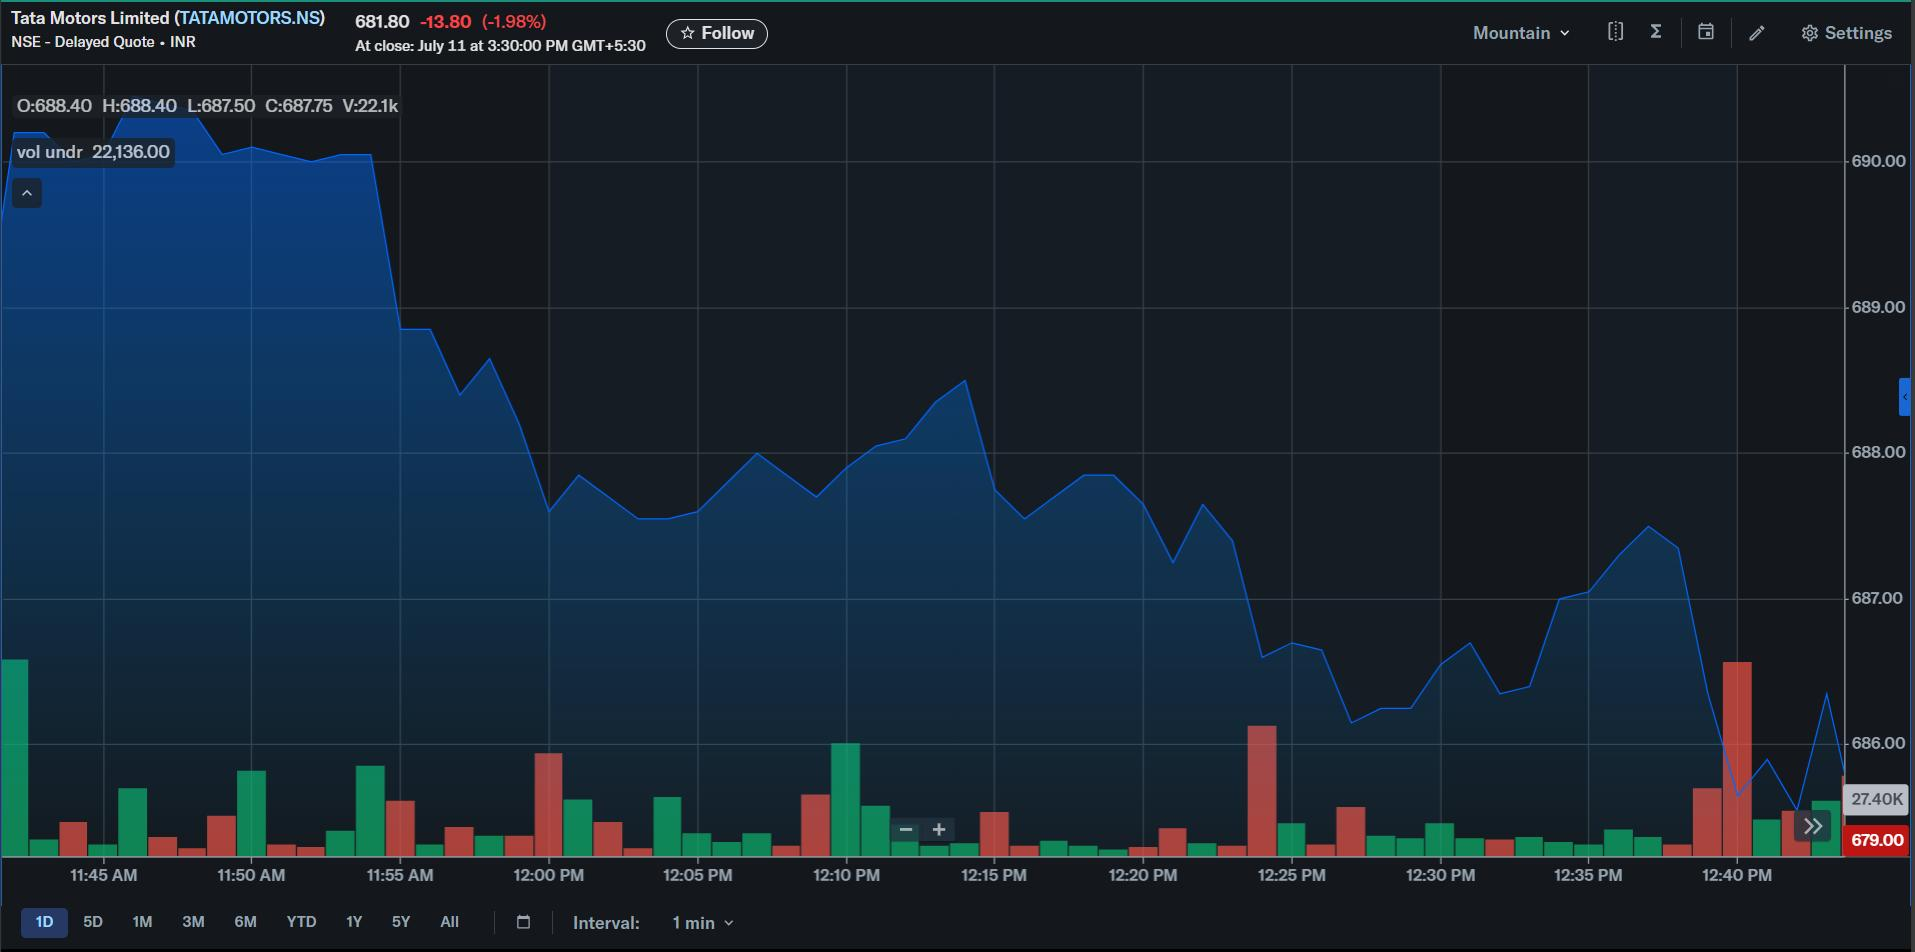Downtrend: (1663, 496, 1762, 808), (352, 119, 442, 369), (476, 310, 570, 536)
Uptrend: (1492, 461, 1659, 708), (809, 308, 968, 521), (1201, 434, 1282, 675)
